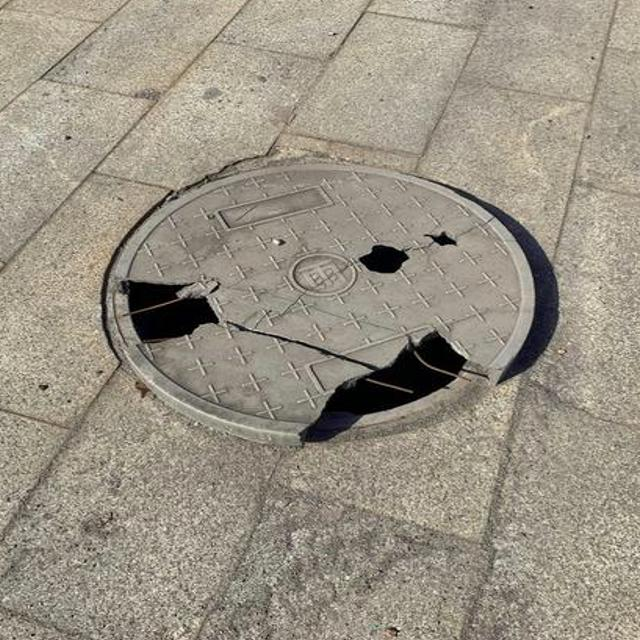broke: (83, 134, 575, 452)
